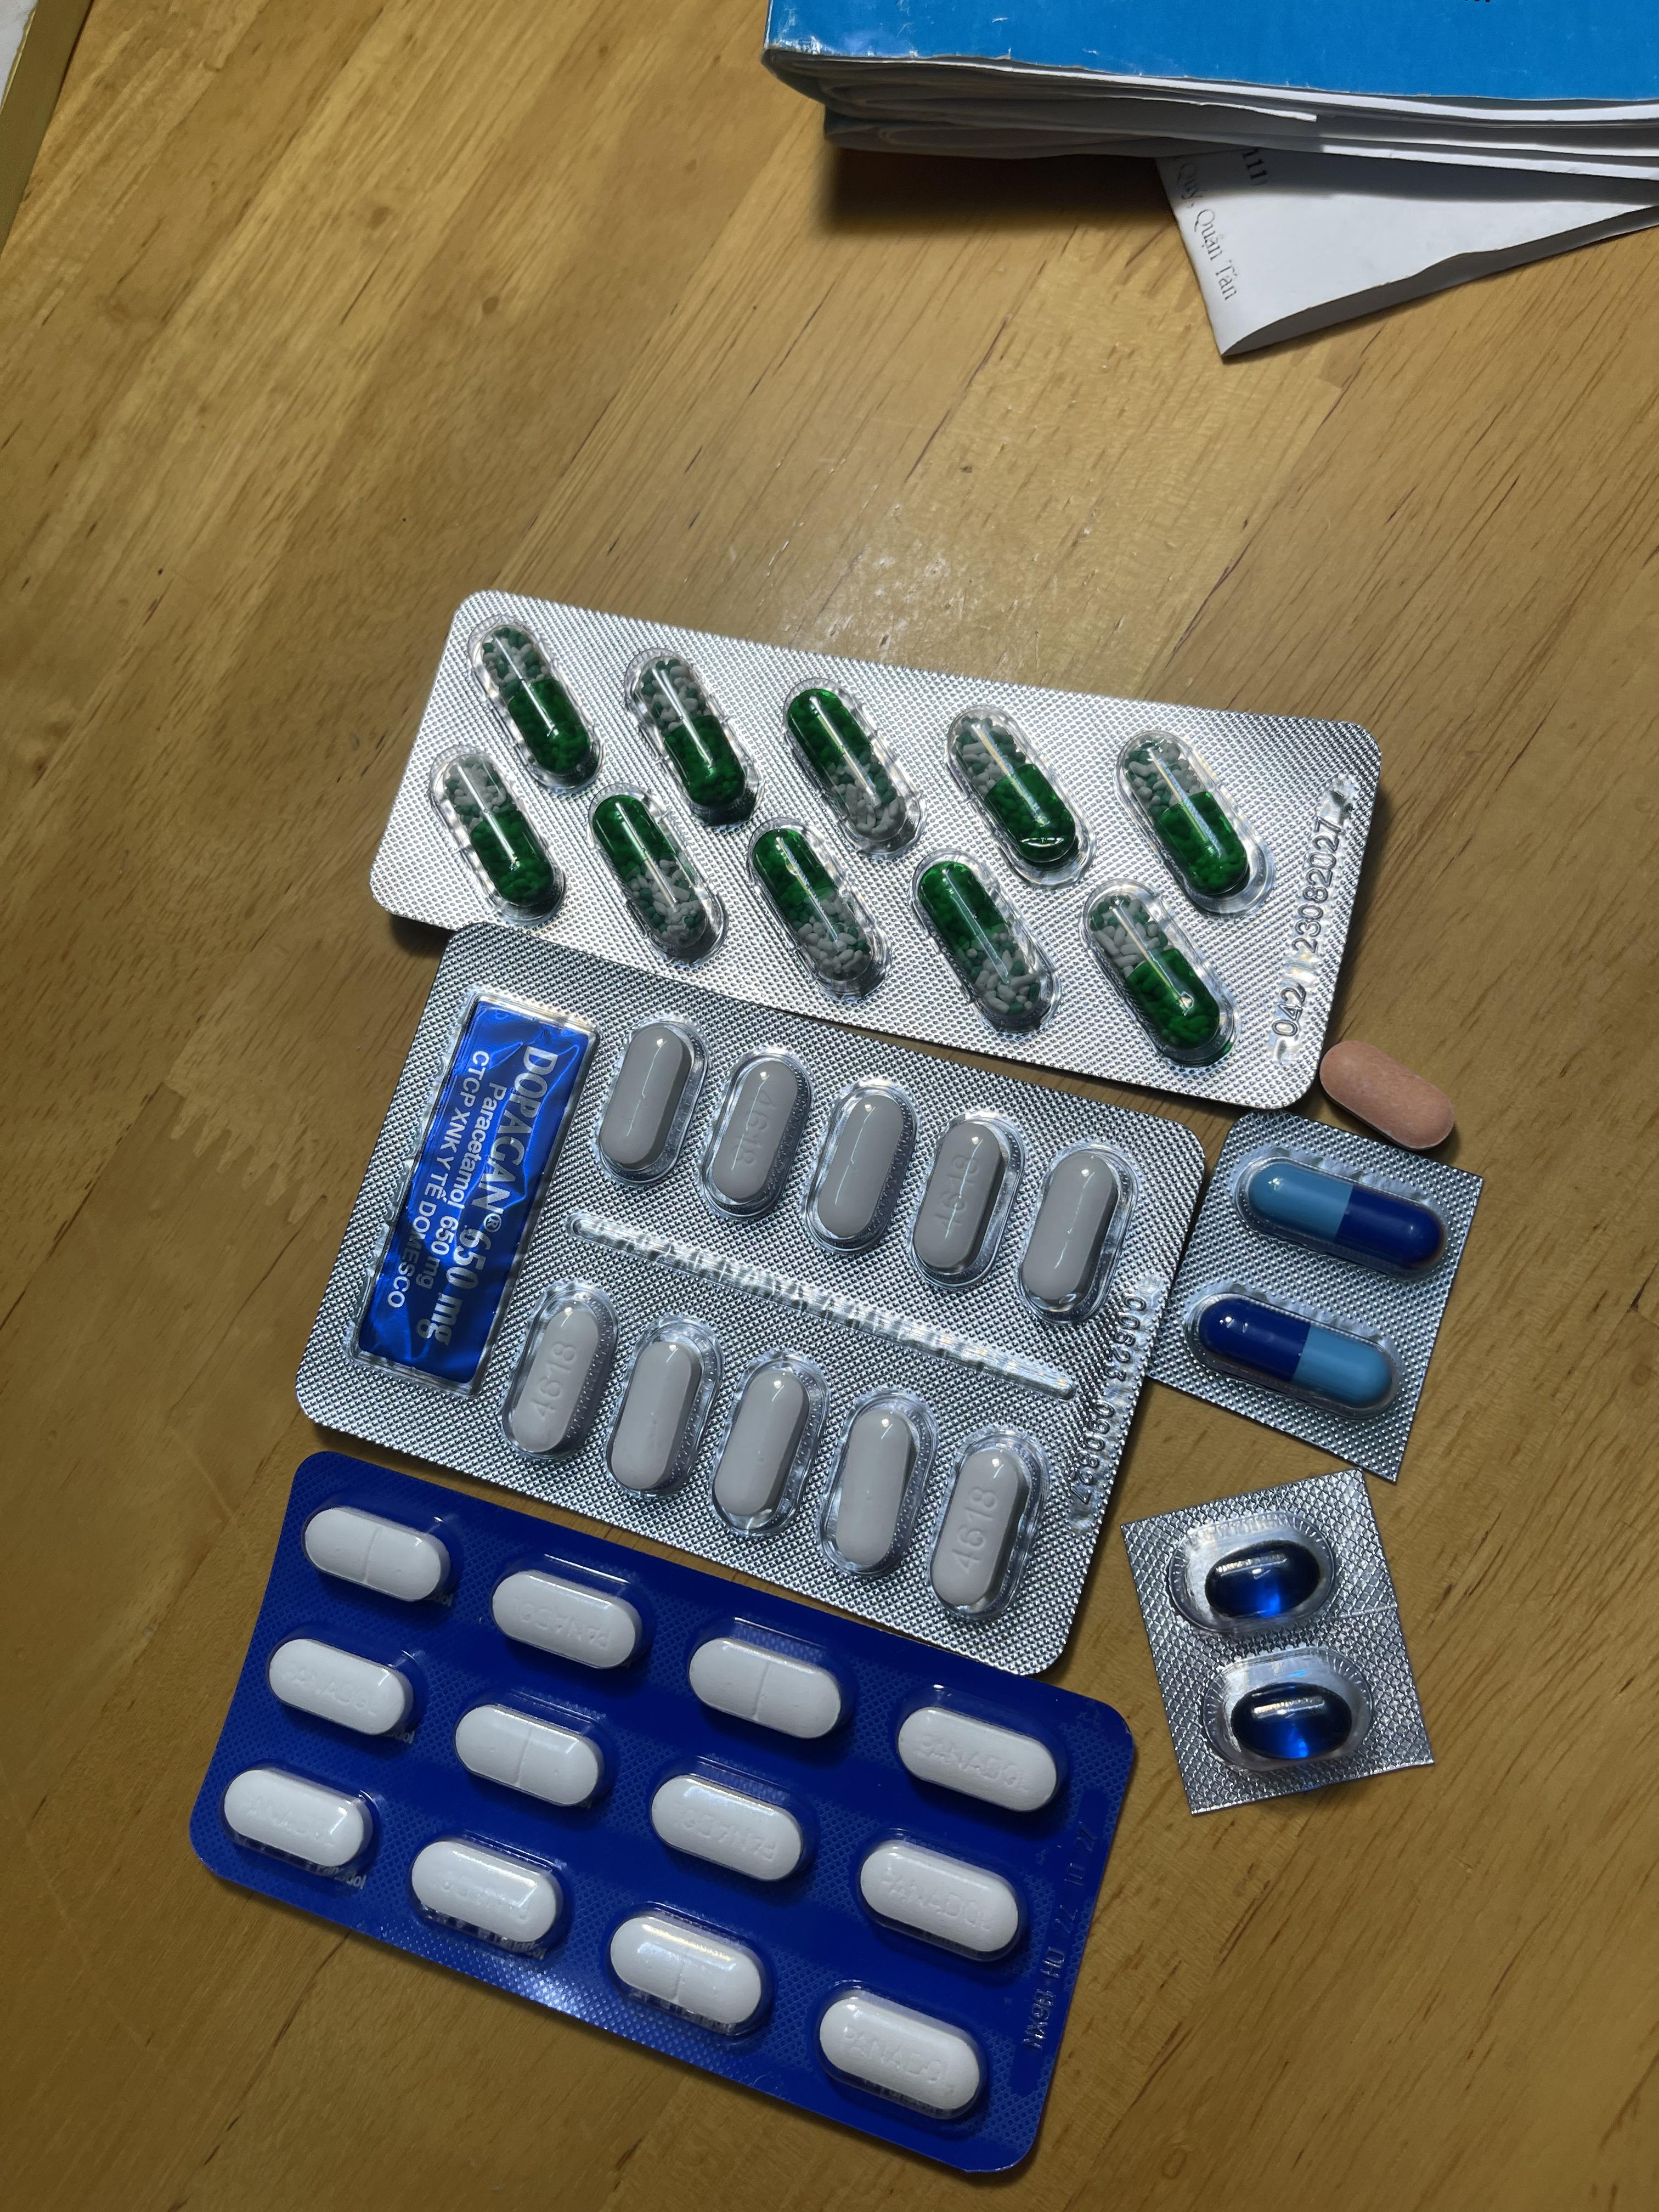Lincomyxin_500mg: (1225, 1679, 1349, 1759), (1201, 1540, 1319, 1620)
Loratadine_10mg: (1319, 1040, 1457, 1150)
Paracetamol_350mg: (816, 1989, 985, 2120), (856, 1838, 1025, 1963), (606, 1911, 770, 2036), (896, 1702, 1061, 1817), (648, 1771, 809, 1886), (410, 1838, 566, 1952), (223, 1764, 375, 1879), (688, 1630, 847, 1740), (490, 1566, 647, 1670), (455, 1702, 606, 1810), (267, 1634, 416, 1740), (303, 1501, 453, 1602)
Paracetamol_500mg: (924, 1428, 1044, 1618), (599, 1313, 723, 1493), (497, 1282, 617, 1461), (709, 1350, 823, 1529), (1014, 1141, 1129, 1317), (817, 1392, 927, 1573), (908, 1108, 1018, 1282), (803, 1082, 913, 1251), (589, 1017, 701, 1183), (699, 1052, 809, 1212)
Paracetamol_650mg: (1122, 732, 1272, 913), (627, 653, 765, 833), (913, 855, 1051, 1031), (469, 617, 605, 792), (1084, 881, 1223, 1052), (427, 747, 565, 920), (749, 824, 884, 995), (591, 789, 721, 961), (948, 709, 1080, 871), (789, 688, 908, 840)
pill: (1199, 1292, 1392, 1407), (1251, 1160, 1443, 1266)
